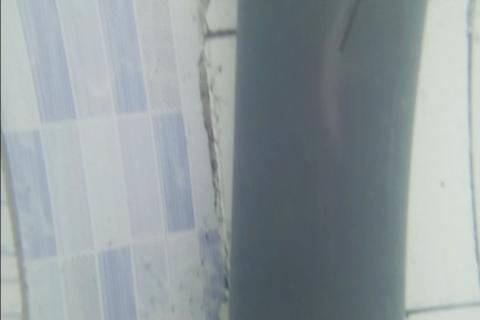keretakan: (338, 0, 359, 51)
